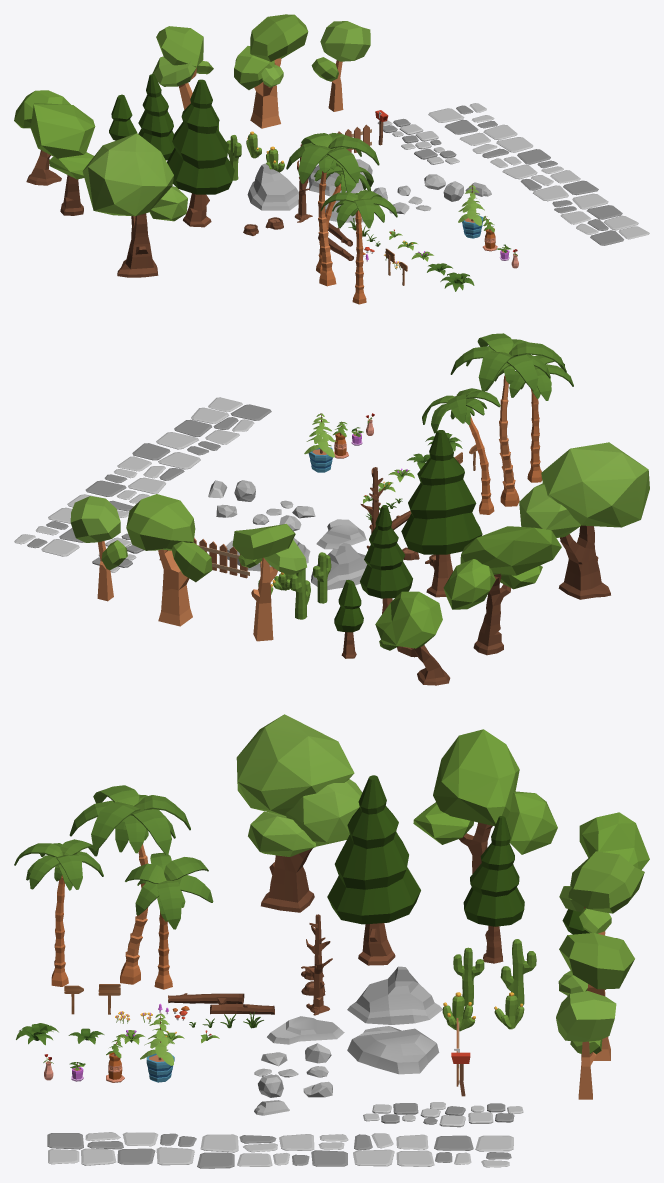
The model's file is Low Poly - Nature Pack - Props.fbx.
3 views of the same model, one above another, from view 1: azimuth 30°, elevation 25°; view 2: azimuth 150°, elevation 25°; view 3: azimuth 270°, elevation 25° (orthographic). The views are drawn at different scales.
Parts seen in each view (by area): view 1: tree oak 3, road, tree pine 1, tree 3, tree oak 1, tree palm 1, tree 2, tree 1, tree palm 2, tree pine 2, rock big 3, tree oak 2 (+6 smaller); view 2: tree oak 3, road, tree oak 1, tree pine 1, tree 3, tree palm 1, tree 2, tree oak 2, tree pine 2, tree 1, tree palm 3, tree palm 2 (+9 smaller); view 3: tree oak 3, road, tree oak 1, tree pine 1, tree palm 1, tree pine 2, tree palm 3, tree 2, tree 3, tree palm 2, tree 1, rock big 3 (+12 smaller).
Boxes of the visible parts, <box> form: tree oak 3: <box>82,133,187,277</box>; road: <box>428,103,649,245</box>; tree pine 1: <box>167,79,234,227</box>; tree 3: <box>234,14,308,128</box>; tree oak 1: <box>30,103,95,215</box>; tree palm 1: <box>286,133,379,286</box>; tree 2: <box>152,26,213,109</box>; tree 1: <box>311,21,370,111</box>; tree palm 2: <box>320,190,397,304</box>; tree pine 2: <box>138,74,174,160</box>; rock big 3: <box>247,163,298,210</box>; tree oak 2: <box>14,90,70,185</box>; tree oak 3: <box>519,442,649,599</box>; road: <box>14,397,271,556</box>; tree oak 1: <box>443,526,561,655</box>; tree pine 1: <box>401,430,482,597</box>; tree 3: <box>126,494,212,626</box>; tree palm 1: <box>450,333,566,506</box>; tree 2: <box>232,524,306,641</box>; tree oak 2: <box>375,591,450,685</box>; tree pine 2: <box>360,505,412,613</box>; tree 1: <box>70,496,127,601</box>; tree palm 3: <box>422,388,500,514</box>; tree palm 2: <box>495,355,573,482</box>; tree oak 3: <box>236,714,362,912</box>; road: <box>47,1132,513,1168</box>; tree oak 1: <box>413,729,557,873</box>; tree pine 1: <box>327,775,420,965</box>; tree palm 1: <box>69,785,190,984</box>; tree pine 2: <box>463,816,524,963</box>; tree palm 3: <box>125,852,213,989</box>; tree 2: <box>559,851,644,935</box>; tree 3: <box>558,933,634,1060</box>; tree palm 2: <box>14,839,103,986</box>; tree 1: <box>556,991,616,1099</box>; rock big 3: <box>347,966,442,1024</box>.
Bounding box in the file's own units: 18070 × 5190 × 16182.
1 material, 1 textured.
